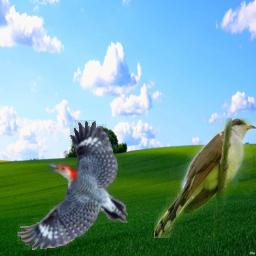Cuckoo: (154, 118, 256, 238)
Woodpecker: (17, 120, 128, 250)
